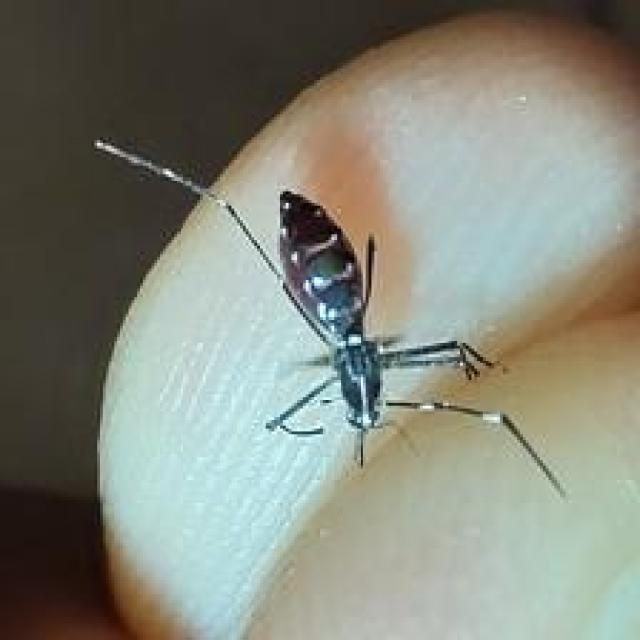Aedes albopictus: (91, 133, 568, 501)
